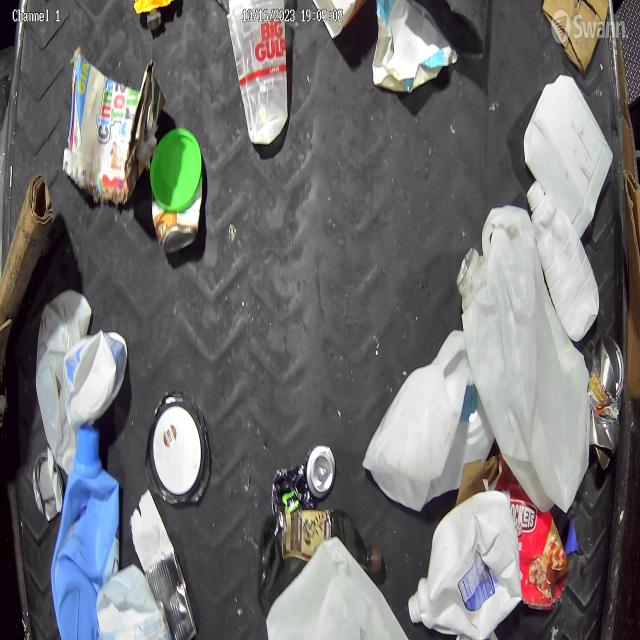can: (361, 327, 495, 514), (130, 486, 199, 640), (589, 334, 625, 470), (270, 442, 336, 516), (148, 200, 204, 256), (32, 447, 64, 522)
milk_jug: (454, 204, 594, 517), (407, 489, 523, 640), (265, 533, 411, 640), (521, 74, 615, 238), (34, 286, 92, 484), (96, 560, 160, 640)
non_white_jug: (49, 422, 123, 640), (257, 509, 384, 618)
